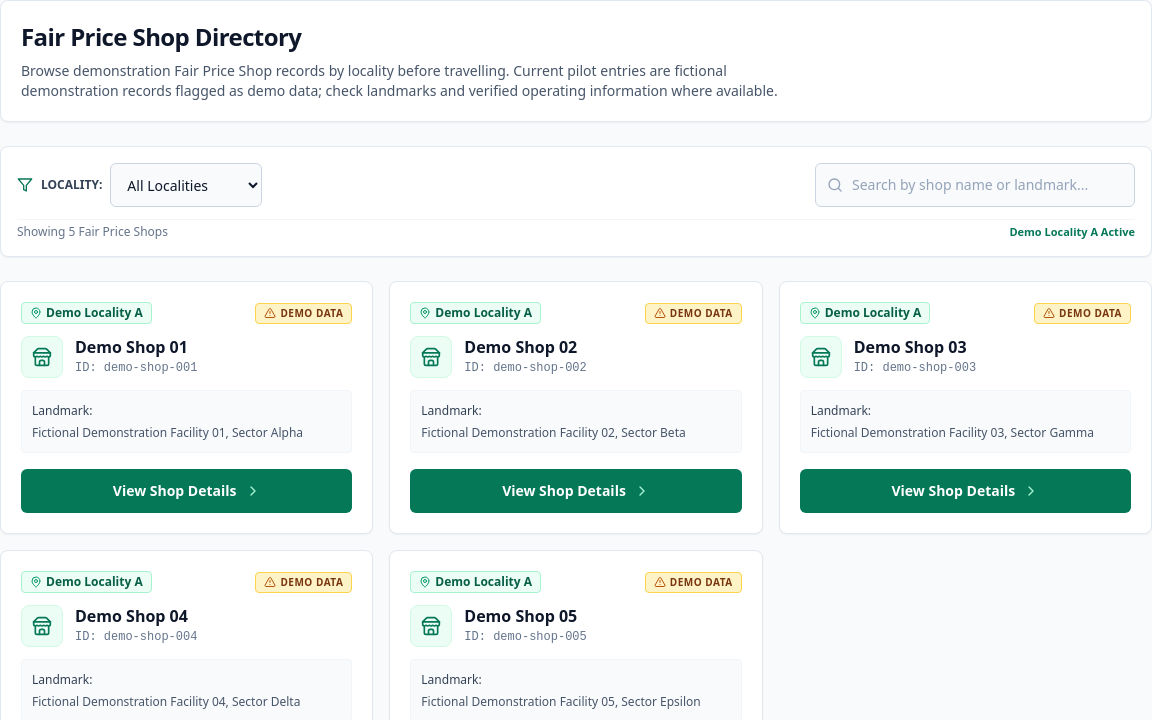
Test: Shop Directory Frontend Components › ShopList › displays EmptyState when no shops match search query
The image size is (1152, 720).
Expected: the heading "Demo Shop 01" is shown, [75,336,197,358]
Type "Nonexistent Shop" into the field with placeholder "Search by shop name or landmark...". click: (975, 185)
box: [815,163,1135,207]
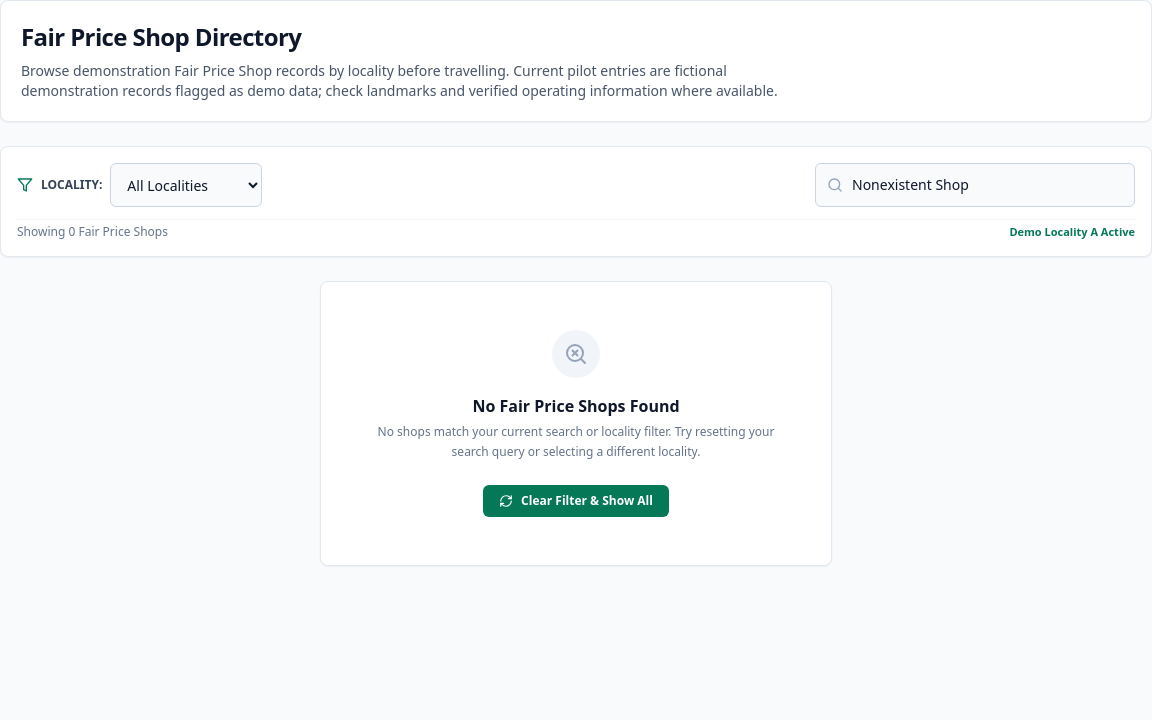
Now the heading "No Fair Price Shops Found" is shown, box [472,395,680,417]
Click the button "Clear Filter & Show All". click: (576, 501)
box: [483,485,669,517]
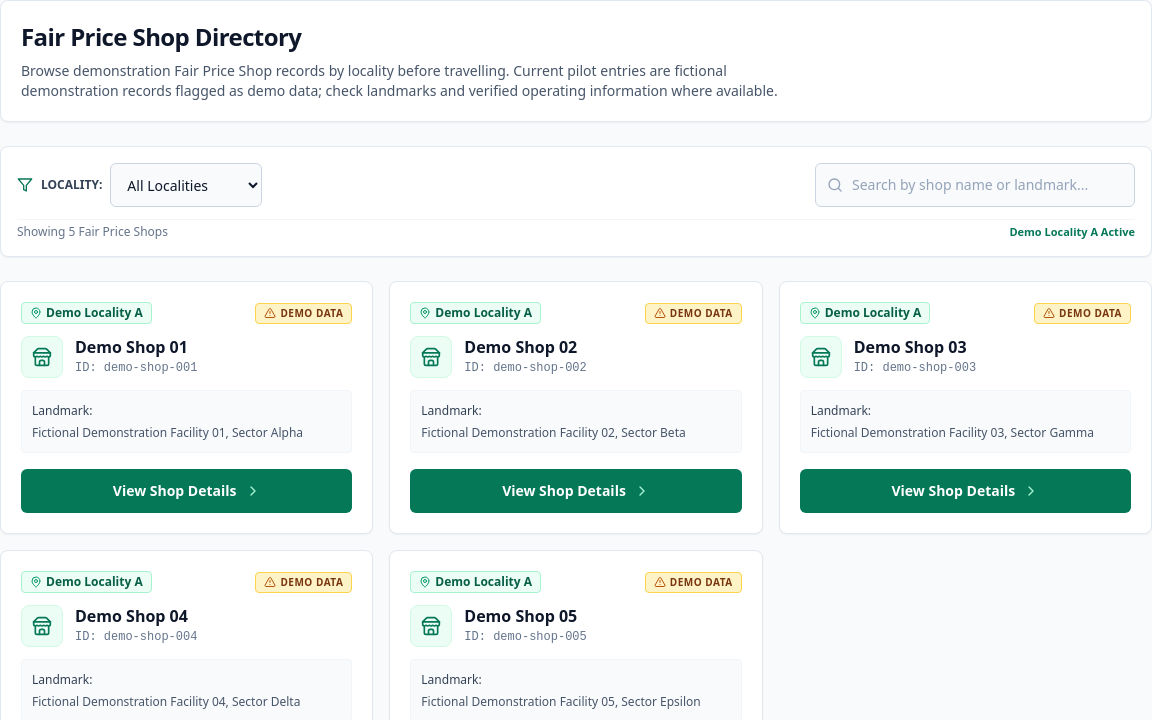
Now the heading "Demo Shop 01" is shown, box [75,336,197,358]
